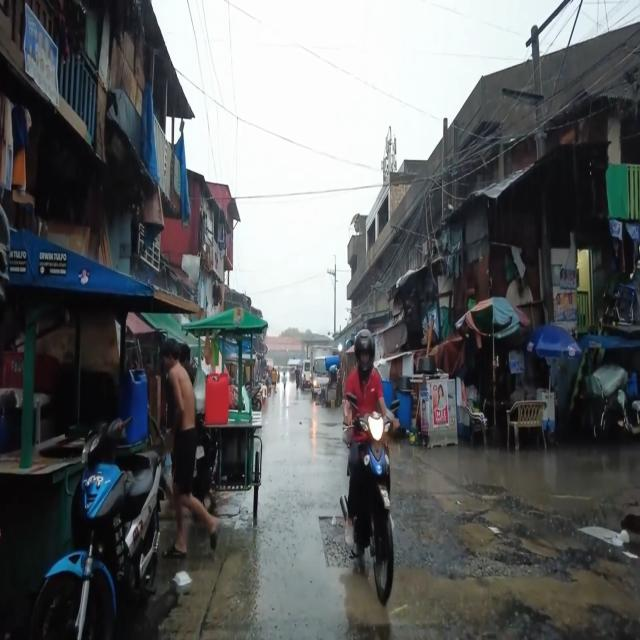full: (354, 328, 375, 377)
